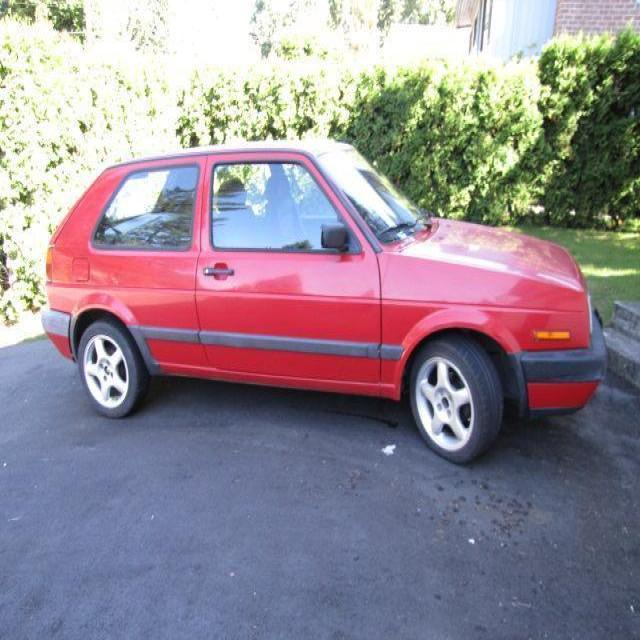Car: (48, 126, 612, 453)
